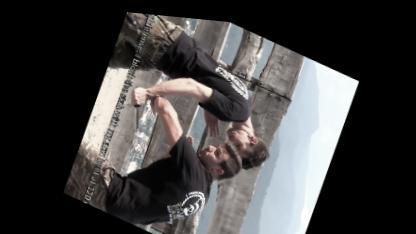knife: (116, 79, 154, 136)
